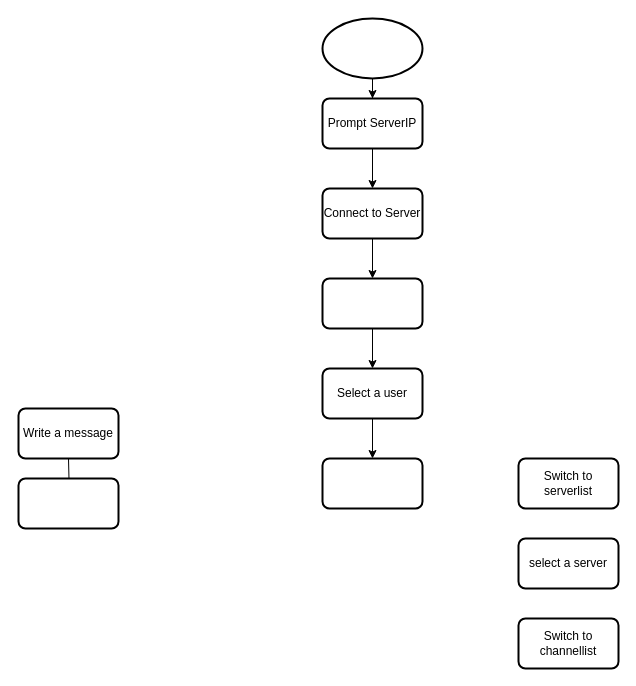
Some shapes in this 636 by 686 pixel diagram are drawn without their labels. The shapes that lost their labels are listed below. From the top down, each one's box as (x1, y1, x2, y2) in pixels, then its label:
(321, 17, 423, 79): Start
(321, 277, 423, 329): Load Screen
(17, 477, 119, 529): Send a message
(321, 457, 423, 509): DM a User
